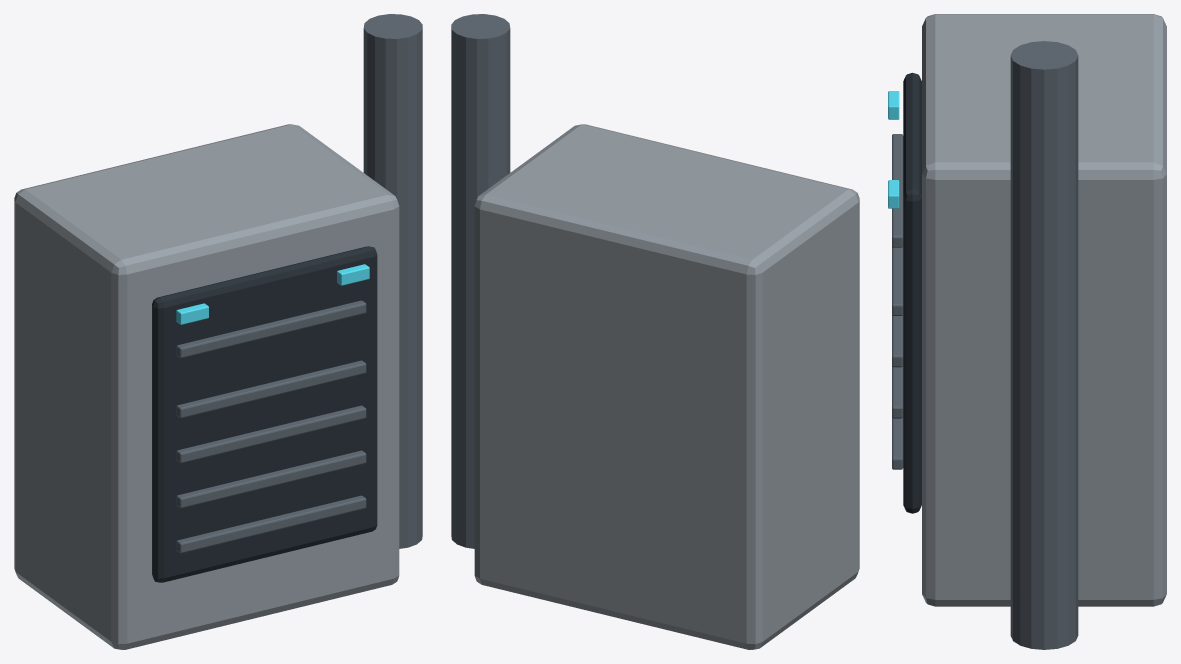
Rendered from 4_Service.fbx.
3 views of the same model, side by side, from view 1: azimuth 30°, elevation 25°; view 2: azimuth 150°, elevation 25°; view 3: azimuth 270°, elevation 25° (orthographic). The views are drawn at different scales.
Parts seen in each view (by area): view 1: Body; view 2: Body; view 3: Body.
Part boxes in pixels (x1=…): Body: x1=14, y1=14, x2=422, y2=649; Body: x1=451, y1=14, x2=859, y2=649; Body: x1=888, y1=14, x2=1166, y2=649.
Size of the model in its own units: 1.24 by 1.7 by 0.74.
